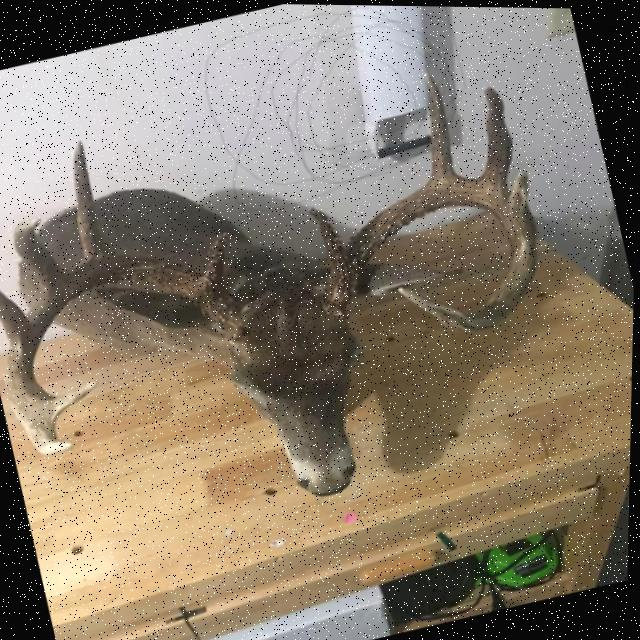L-F: (5, 256, 247, 453)
L-G1: (198, 230, 231, 289)
L-G2: (72, 137, 119, 261)
R-F: (323, 180, 539, 329)
R-G1: (308, 204, 347, 272)
R-G2: (423, 70, 465, 184)
